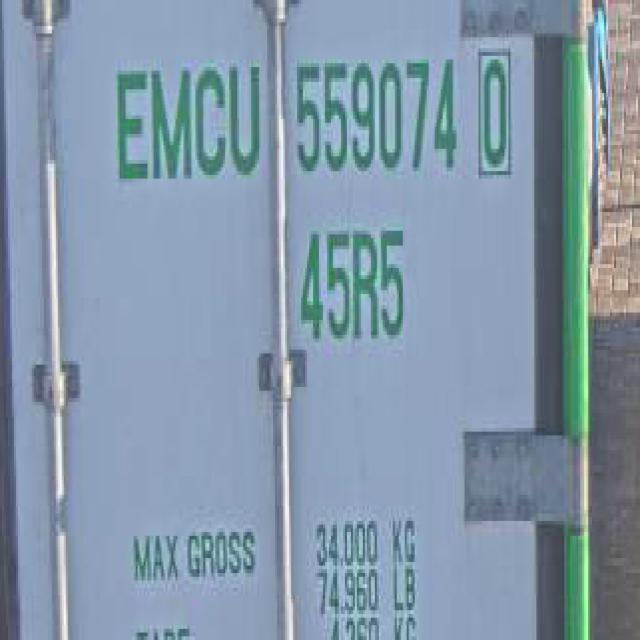dv: (470, 42, 518, 187)
owner: (110, 48, 266, 192)
serial: (288, 41, 461, 193)
size: (295, 219, 411, 356)
